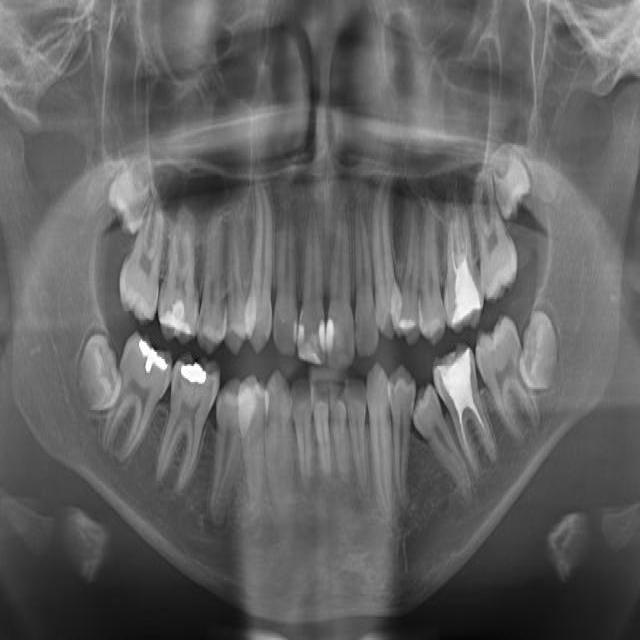dolgu: (427, 342, 482, 417), (134, 329, 171, 396), (449, 254, 483, 324), (147, 297, 197, 344), (172, 347, 218, 396), (312, 307, 338, 358)
kanal-tedavisi: (453, 391, 494, 469), (438, 194, 473, 274)
